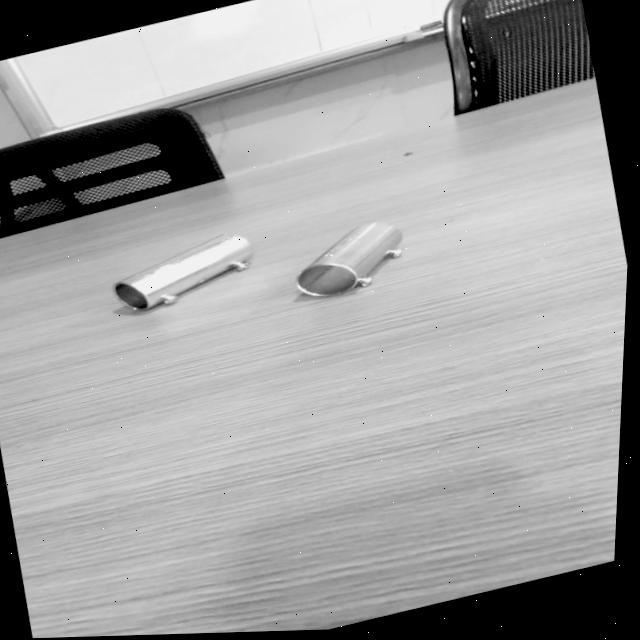Co_Lon: (112, 225, 258, 322)
Co_Nho: (291, 205, 413, 321)
